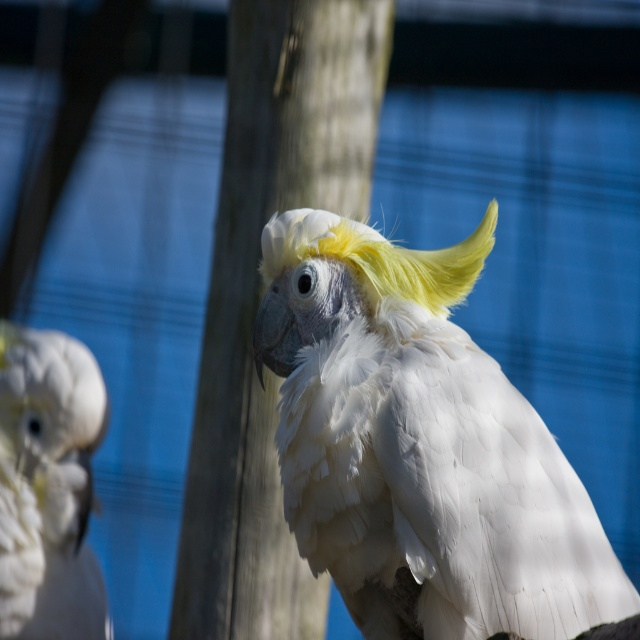Parrot: (250, 194, 640, 639), (0, 316, 114, 639)
